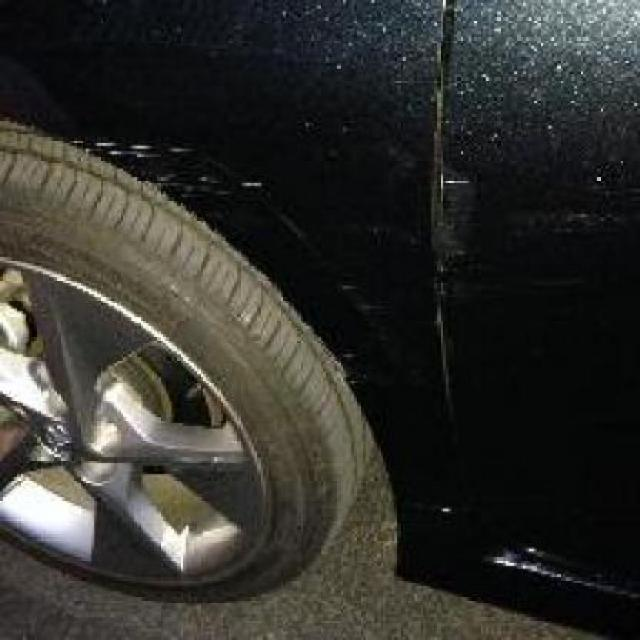dent-or-scratch: (81, 122, 232, 190)
